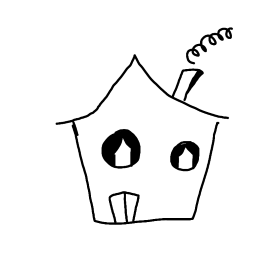door: (103, 186, 145, 230)
open_window: (93, 123, 148, 173), (162, 133, 205, 175)
single_line_roof: (51, 49, 232, 133)
smoking_chimney: (170, 22, 244, 112)
wall: (63, 112, 222, 228)
